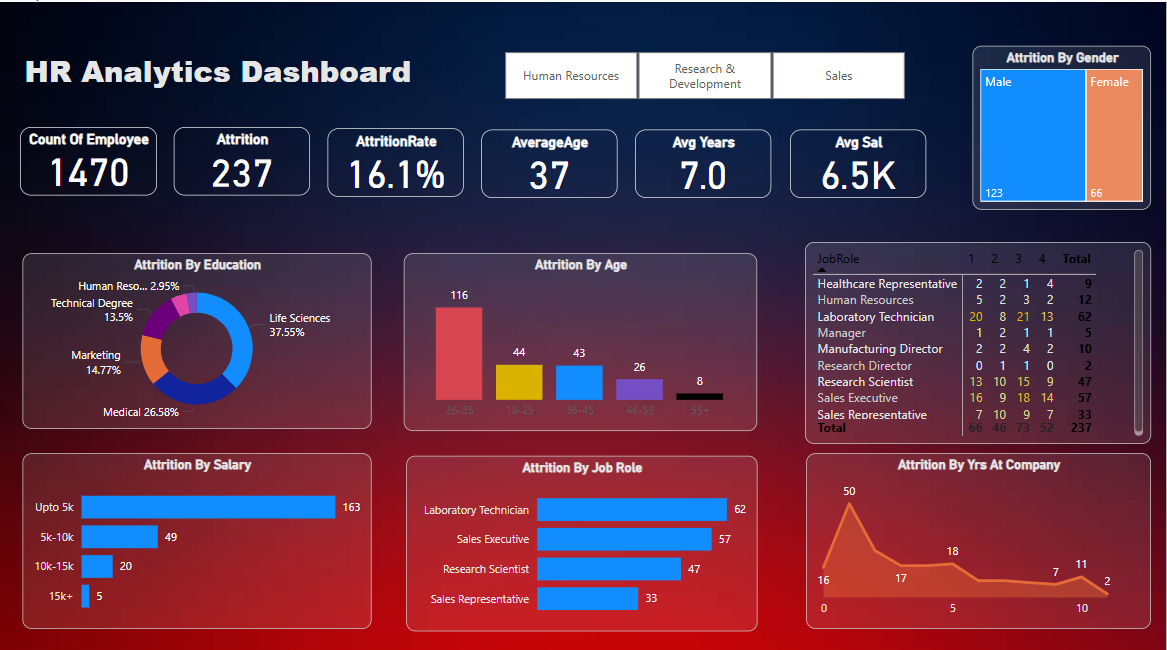

The page's visual inventory and layout, read from the dashboard file:
{"tool":"powerbi","page":{"name":"Page 1","canvas":[1280,720],"ordinal":0},"visuals":[{"type":"card","title":"Count Of Employee","fields":{"Values":["CountNonNull(HR_Analytics (2).EmpID)"]},"box":[22,137.2,150,75],"z":0},{"type":"card","title":"Attrition","fields":{"Values":["Sum(HR_Analytics (2).AttritionCount)"]},"box":[190.7,137.2,149.6,75.5],"z":1000},{"type":"card","title":"AttritionRate","fields":{"Values":["HR_Analytics (2).AttritionRate"]},"box":[359.5,138.6,149.6,75.5],"z":2000},{"type":"card","title":"AverageAge","fields":{"Values":["Avg(HR_Analytics (2).Age)"]},"box":[528.3,140,149.6,75.5],"z":3000},{"type":"card","title":"Avg Years","fields":{"Values":["Avg(HR_Analytics (2).YearsAtCompany)"]},"box":[697.1,140,149.6,75.5],"z":4000},{"type":"card","title":"Avg Sal","fields":{"Values":["Avg(HR_Analytics (2).MonthlyIncome)"]},"box":[867.2,140,149.6,75.5],"z":5000},{"type":"donutChart","title":"Attrition By Education","fields":{"Y":["Sum(HR_Analytics (2).AttritionCount)"],"Category":["HR_Analytics (2).EducationField"]},"box":[24.4,275.6,382.9,192.7],"z":6000},{"type":"columnChart","title":"Attrition By Age","fields":{"Category":["HR_Analytics (2).AgeGroup"],"Y":["Sum(HR_Analytics (2).AttritionCount)"]},"box":[443.9,275.6,387.8,195.1],"z":7000},{"type":"pivotTable","fields":{"Rows":["HR_Analytics (2).JobRole"],"Columns":["HR_Analytics (2).JobSatisfaction"],"Values":["Sum(HR_Analytics (2).AttritionCount)"]},"box":[884.2,263.3,380,221.7],"z":8000},{"type":"barChart","title":"Attrition By Salary","fields":{"Category":["HR_Analytics (2).SalarySlab"],"Y":["Sum(HR_Analytics (2).AttritionCount)"]},"box":[24.4,495.1,382.9,192.7],"z":9000},{"type":"barChart","title":"Attrition By Job Role","fields":{"Y":["Sum(HR_Analytics (2).AttritionCount)"],"Category":["HR_Analytics (2).JobRole"]},"box":[446.3,497.6,385.4,192.7],"z":10000},{"type":"areaChart","title":"Attrition By Yrs At Company","fields":{"Category":["HR_Analytics (2).YearsAtCompany"],"Y":["Sum(HR_Analytics (2).AttritionCount)"]},"box":[885.4,495.1,378,192.7],"z":11000},{"type":"treemap","title":"Attrition By Gender","fields":{"Group":["HR_Analytics (2).Gender"],"Values":["Sum(HR_Analytics (2).AttritionCount)"]},"box":[1068,48,196,180],"z":12000},{"type":"slicer","fields":{"Values":["HR_Analytics (2).Department"]},"box":[528.1,48.4,489.1,65.6],"z":13000},{"type":"textbox","box":[21.7,48.3,486.7,65.8],"z":14000}]}

Visuals, with their boxes in screenshot pixels (x1, y1, x2, y2), scaled from the page's 1280x720 canvas onto the 1167x650 screenshot:
"Count Of Employee" card: box(20, 124, 157, 192)
"Attrition" card: box(174, 124, 310, 192)
"AttritionRate" card: box(328, 125, 464, 193)
"AverageAge" card: box(482, 126, 618, 195)
"Avg Years" card: box(636, 126, 772, 195)
"Avg Sal" card: box(791, 126, 927, 195)
"Attrition By Education" donutChart: box(22, 249, 371, 423)
"Attrition By Age" columnChart: box(405, 249, 758, 425)
pivotTable - HR_Analytics (2).JobRole x HR_Analytics (2).JobSatisfaction: box(806, 238, 1153, 438)
"Attrition By Salary" barChart: box(22, 447, 371, 621)
"Attrition By Job Role" barChart: box(407, 449, 758, 623)
"Attrition By Yrs At Company" areaChart: box(807, 447, 1152, 621)
"Attrition By Gender" treemap: box(974, 43, 1152, 206)
slicer - HR_Analytics (2).Department: box(481, 44, 927, 103)
textbox: box(20, 44, 464, 103)
